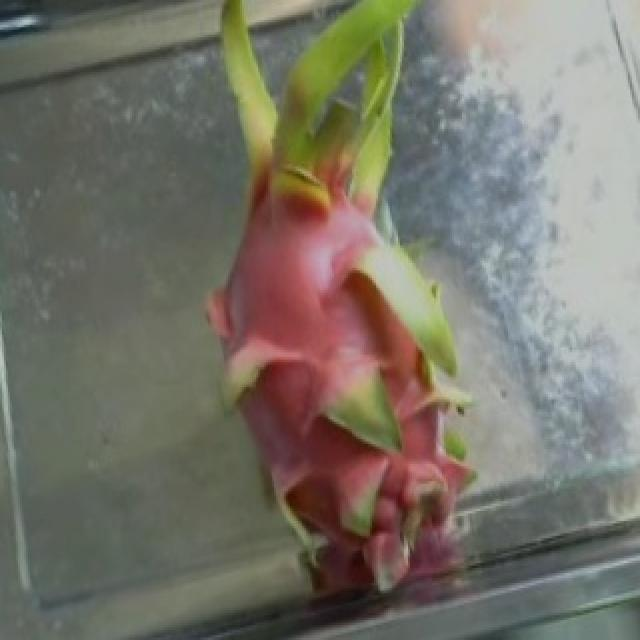fruit: (164, 168, 584, 622)
